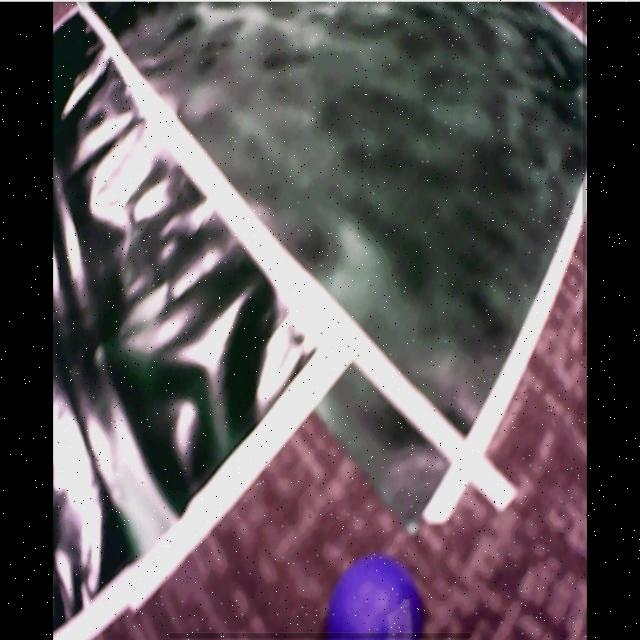ball: (329, 562, 429, 640)
